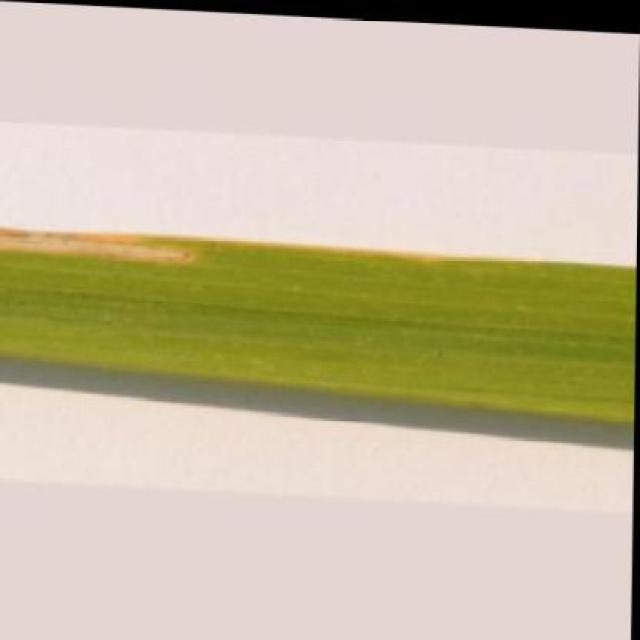Brown_Spot: (0, 227, 637, 421)
